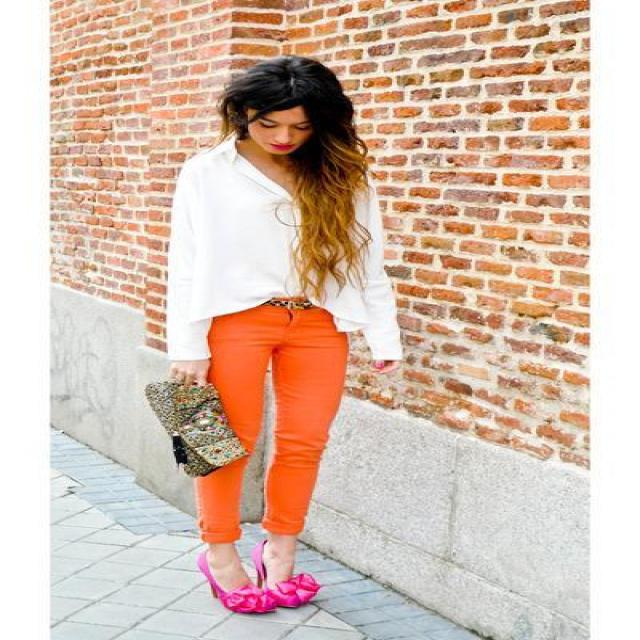bag: (149, 374, 248, 476)
pants: (198, 305, 349, 544)
shirt: (154, 141, 419, 359)
shoe: (203, 568, 323, 614)
